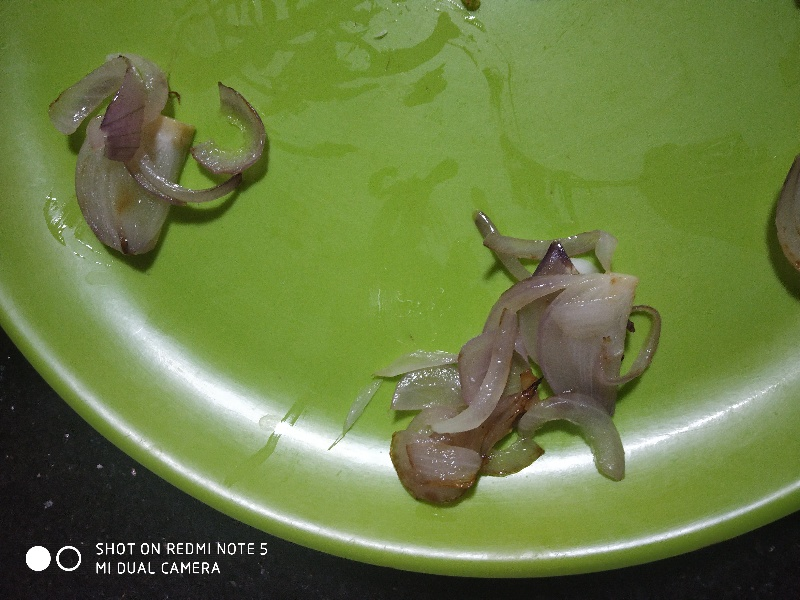onion_golden: (389, 213, 660, 507), (56, 55, 265, 271)
